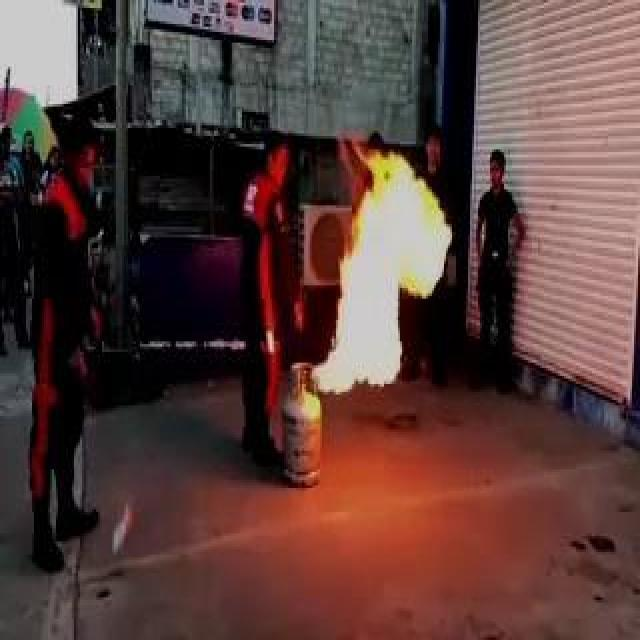Smoke: (309, 133, 433, 403)
